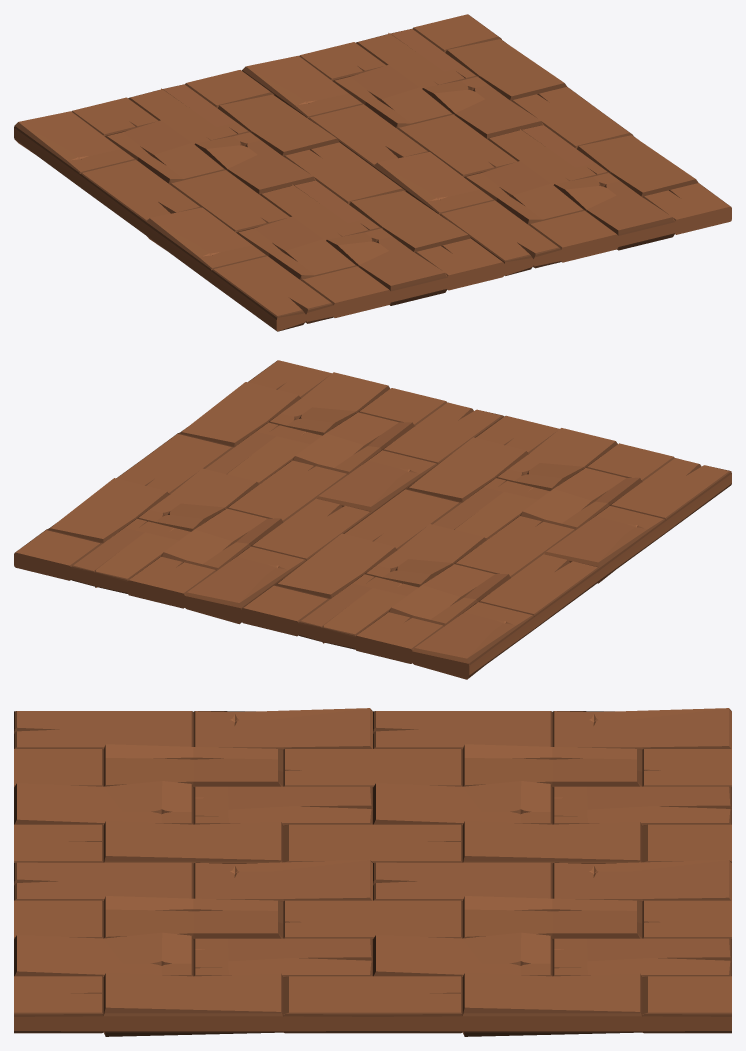
The model's file is Floor_Wood_2.fbx.
3 renders of one model, top to bottom at view 1: azimuth 30°, elevation 25°; view 2: azimuth 150°, elevation 25°; view 3: azimuth 270°, elevation 25°, orthographic. The views are drawn at different scales.
Visible parts, largest first — view 1: Floor_Wood.004; view 2: Floor_Wood.004; view 3: Floor_Wood.004.
Part boxes in pixels (x1,y1,x2,y2): Floor_Wood.004: [14, 14, 731, 331]; Floor_Wood.004: [14, 360, 731, 679]; Floor_Wood.004: [14, 708, 731, 1036].
Bounding box in the file's own units: 400 × 20 × 400.
